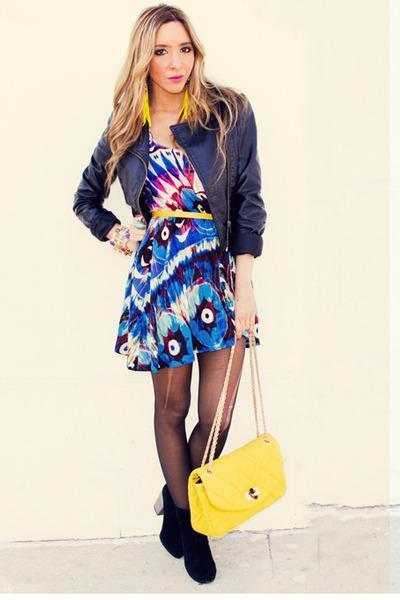bag: (188, 372, 285, 536)
dress: (105, 144, 238, 395)
jacket: (73, 110, 266, 257)
shoe: (160, 492, 215, 584)
